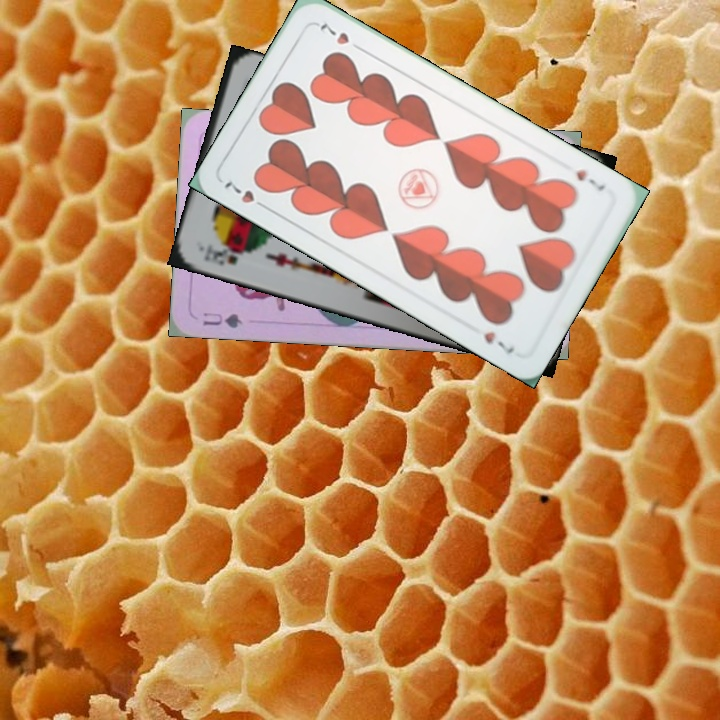GU: (199, 309, 245, 331)
H7: (220, 177, 273, 214), (571, 165, 608, 194)
SK: (200, 239, 245, 268)
